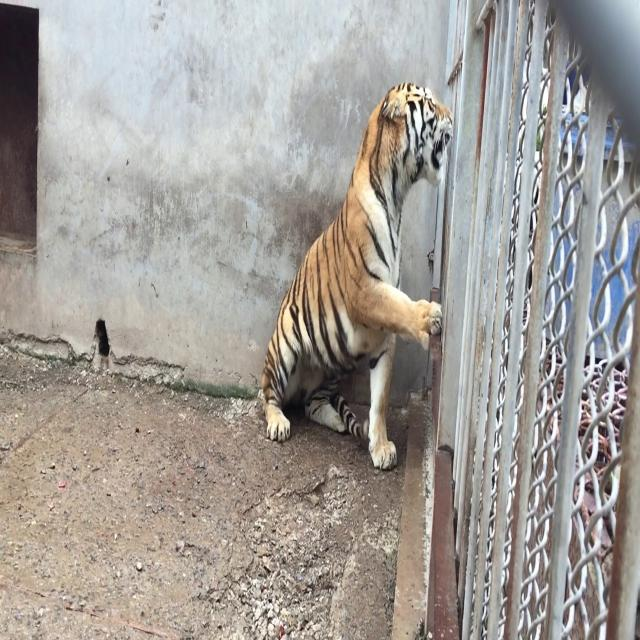Tiger: (215, 51, 499, 525)
